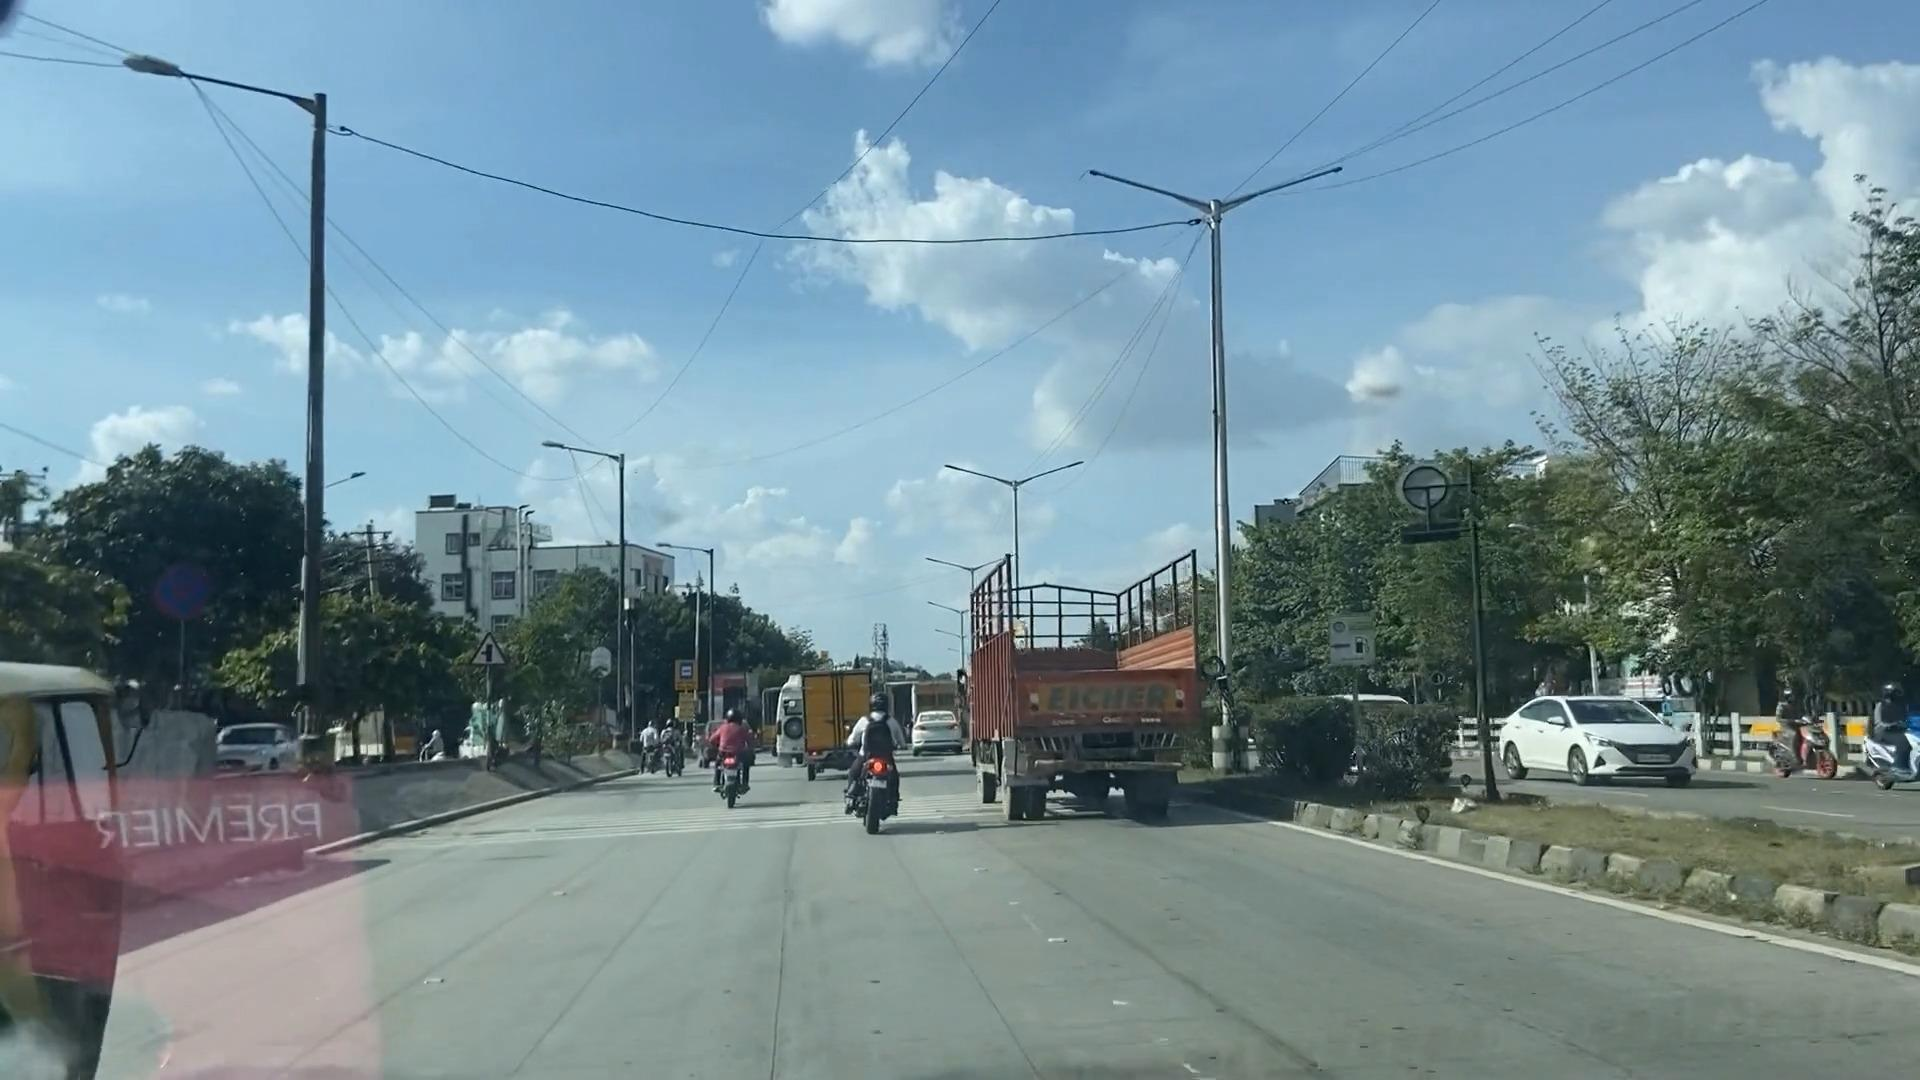HMV: (964, 549, 1218, 806)
LMV: (852, 695, 911, 823), (700, 712, 754, 785)
